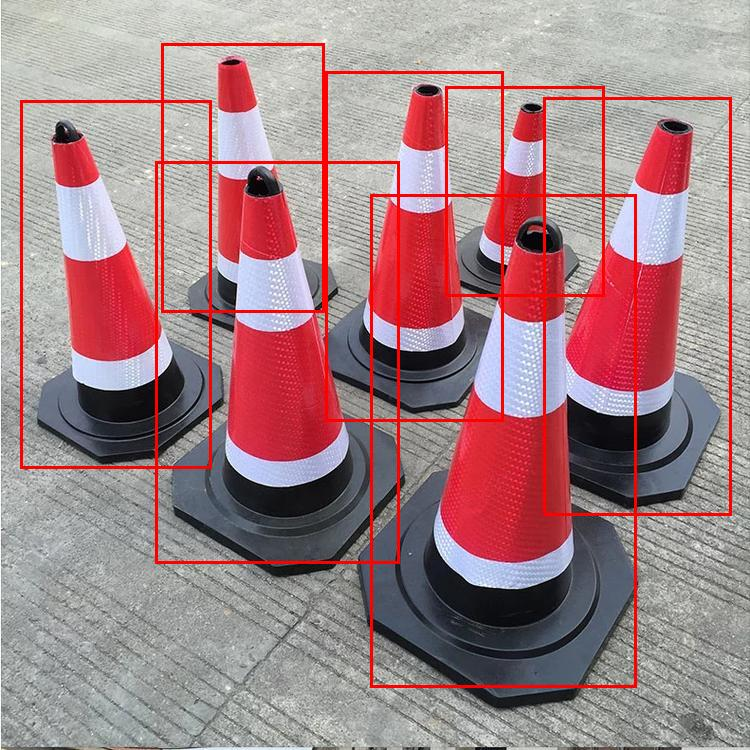traffic_cone: (387, 216, 637, 713), (169, 157, 401, 568), (19, 98, 233, 452), (559, 101, 726, 507), (334, 60, 494, 428), (163, 30, 342, 340), (451, 63, 596, 293)
